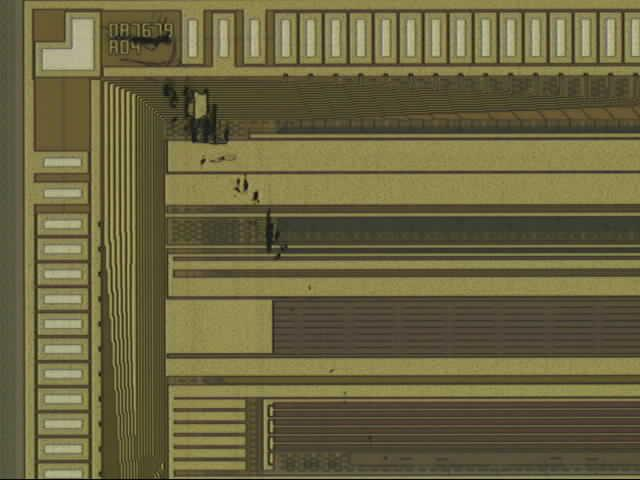SCRATCH: (99, 29, 401, 473)
